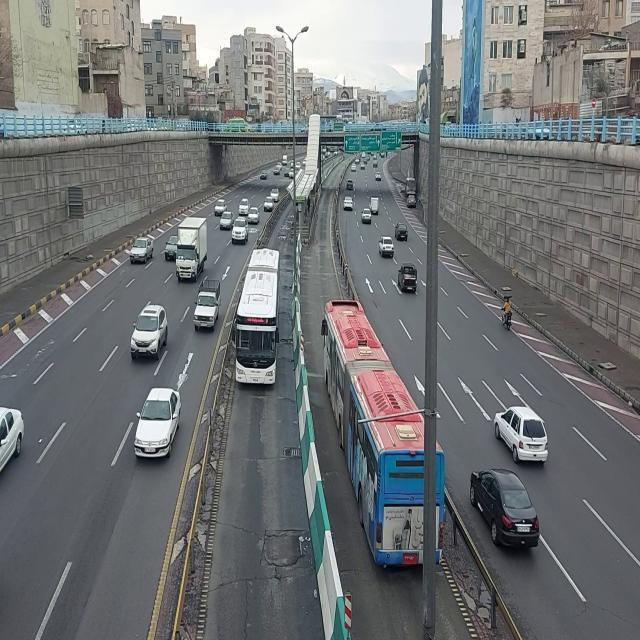Bus: (323, 294, 445, 578), (232, 243, 282, 391)
Car: (469, 466, 541, 554), (492, 405, 550, 468), (134, 387, 184, 459), (130, 302, 170, 362), (129, 238, 157, 266), (164, 234, 180, 264), (231, 217, 249, 243), (379, 236, 395, 259), (219, 209, 233, 235), (395, 223, 409, 243), (213, 198, 227, 217), (247, 208, 261, 226), (362, 208, 373, 226), (239, 198, 251, 214), (344, 195, 355, 212), (271, 186, 281, 204), (264, 196, 275, 212), (407, 194, 417, 208), (345, 178, 354, 192), (260, 170, 268, 181), (376, 170, 383, 182), (274, 166, 281, 176), (284, 167, 290, 178), (295, 162, 301, 171), (373, 160, 379, 168), (289, 168, 293, 180), (352, 164, 357, 173), (361, 162, 366, 170), (355, 157, 360, 165)
Motorcycle: (500, 280, 516, 334)
Pickup: (193, 276, 223, 332), (398, 262, 420, 298), (370, 193, 380, 215), (282, 154, 288, 166)
Truck: (175, 214, 209, 285)
